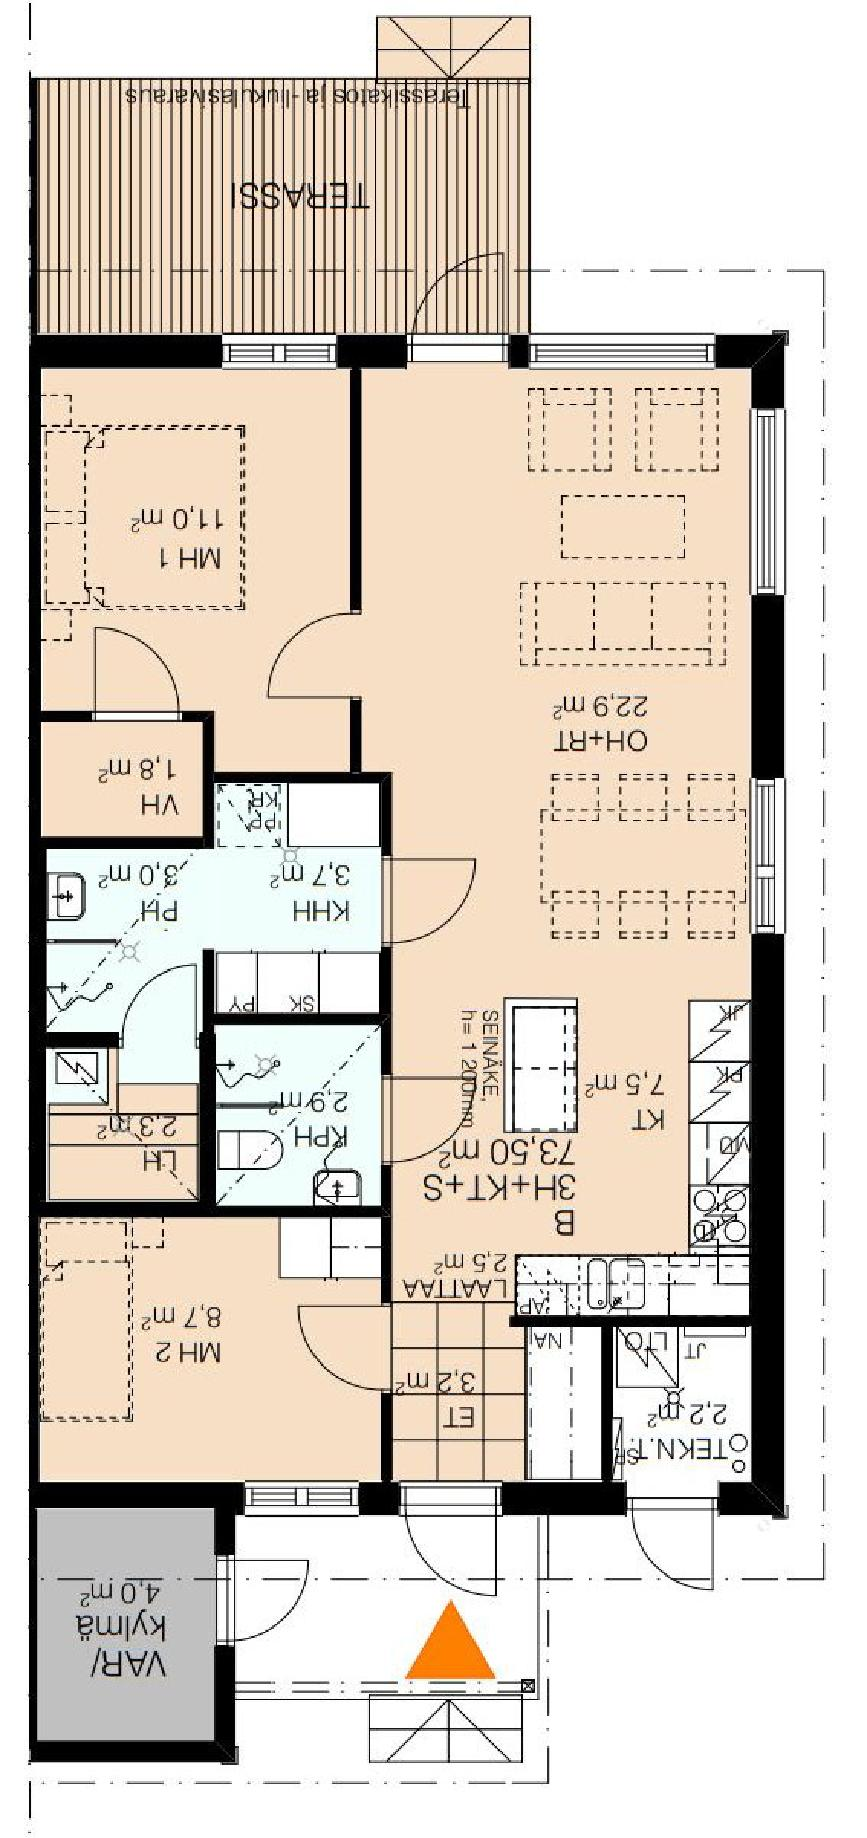door: (405, 1480, 507, 1605), (291, 1294, 401, 1401), (374, 1066, 485, 1170), (83, 622, 191, 726), (209, 1548, 318, 1650), (374, 855, 482, 951), (627, 1485, 721, 1586), (408, 251, 508, 336), (120, 953, 212, 1044), (264, 617, 359, 703)
window: (749, 417, 789, 599), (749, 774, 785, 932), (533, 336, 706, 365), (237, 1482, 362, 1511), (220, 334, 333, 359)
zone: (356, 365, 753, 1307), (41, 776, 376, 1211), (45, 361, 351, 774), (37, 82, 528, 334), (43, 1211, 381, 1490), (235, 1502, 553, 1697), (37, 1503, 221, 1747), (392, 1296, 598, 1478), (228, 1022, 387, 1203), (608, 1313, 747, 1492), (39, 722, 212, 830)
